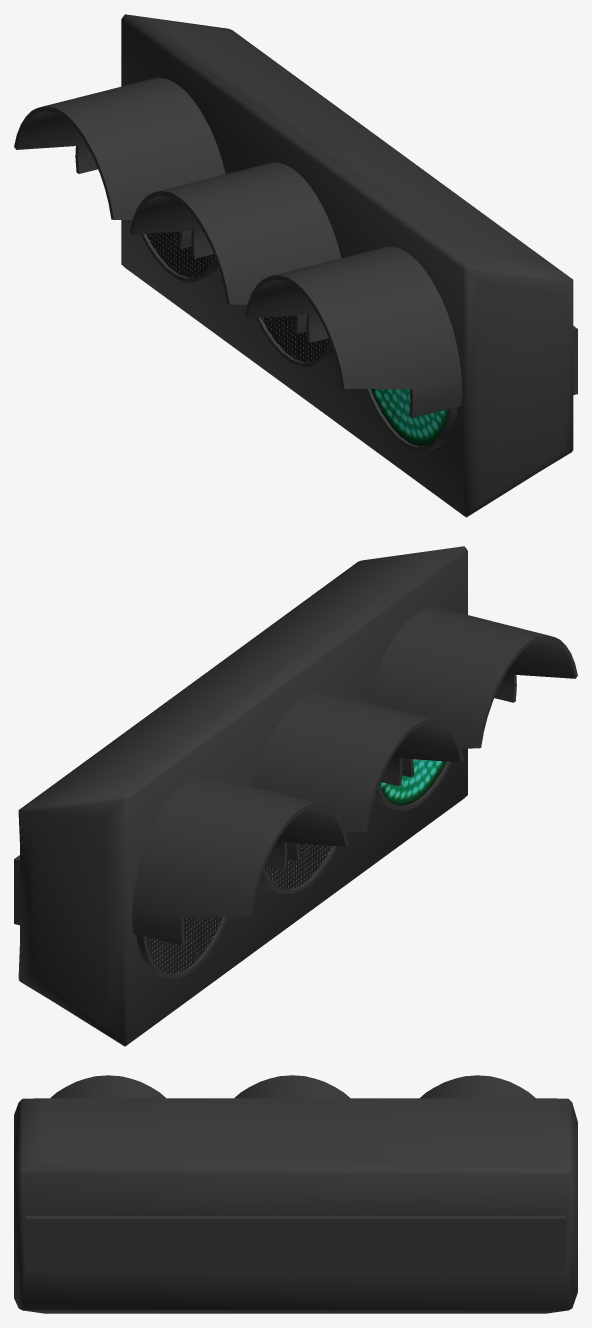
File: 横排全方位灯_GreenLight.fbx
The picture shows the model from 3 angles, top to bottom: view 1: azimuth 30°, elevation 25°; view 2: azimuth 150°, elevation 25°; view 3: azimuth 270°, elevation 25°; orthographic projection. The views are drawn at different scales.
Visible parts, largest first — view 1: 横排全方位灯_GreenLight; view 2: 横排全方位灯_GreenLight; view 3: 横排全方位灯_GreenLight.
Boxes of the visible parts, box(x1,y1,x2,y2) form: 横排全方位灯_GreenLight: box(14, 14, 577, 517); 横排全方位灯_GreenLight: box(14, 546, 577, 1046); 横排全方位灯_GreenLight: box(14, 1075, 577, 1313).
Size of the model in its own units: 0.6 by 0.65 by 1.58.
Materials: 3 (2 with a texture image).
